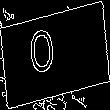O_S: (40, 26, 70, 84)
